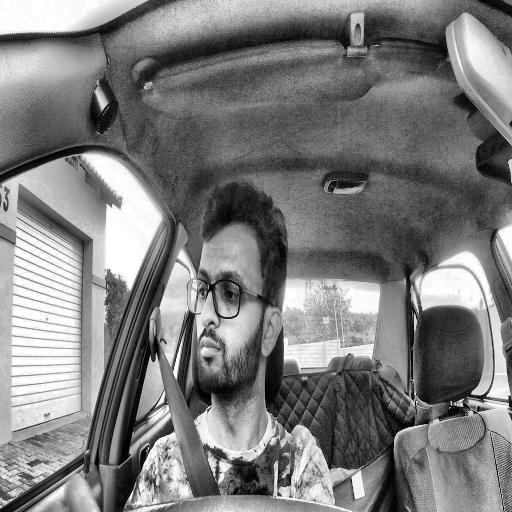awake: (186, 180, 288, 406)
